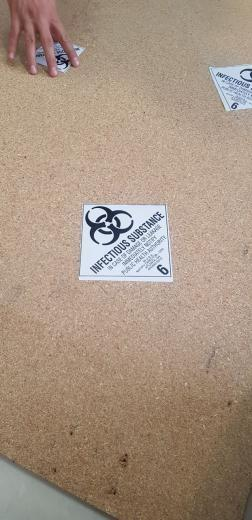infectious-substance: (80, 204, 170, 282), (210, 65, 252, 115), (31, 39, 83, 73)
